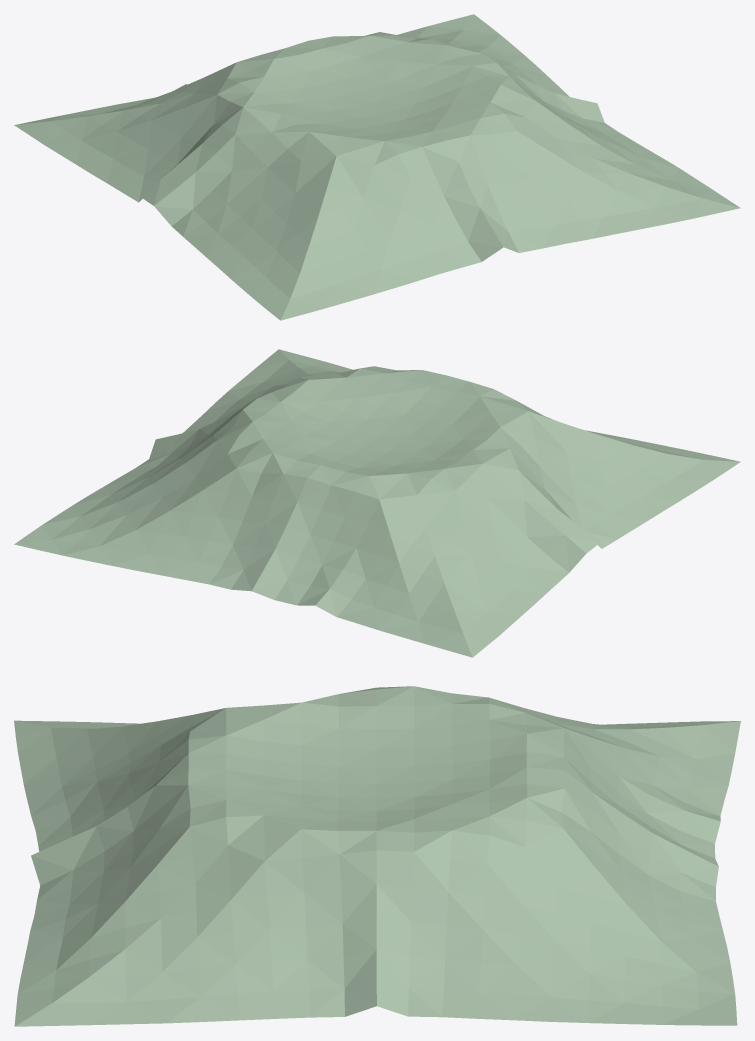
File: level_0.glb
3 views of the same model, one above another, from view 1: azimuth 30°, elevation 25°; view 2: azimuth 150°, elevation 25°; view 3: azimuth 270°, elevation 25° (orthographic). The views are drawn at different scales.
Parts seen in each view (by area): view 1: world; view 2: world; view 3: world.
Part boxes in pixels (left/top/right/bottom): world: left=14, top=14, right=740, bottom=320; world: left=14, top=349, right=740, bottom=657; world: left=14, top=686, right=740, bottom=1026.
Size of the model in its own units: 0.6127 by 0.1009 by 0.6151.
